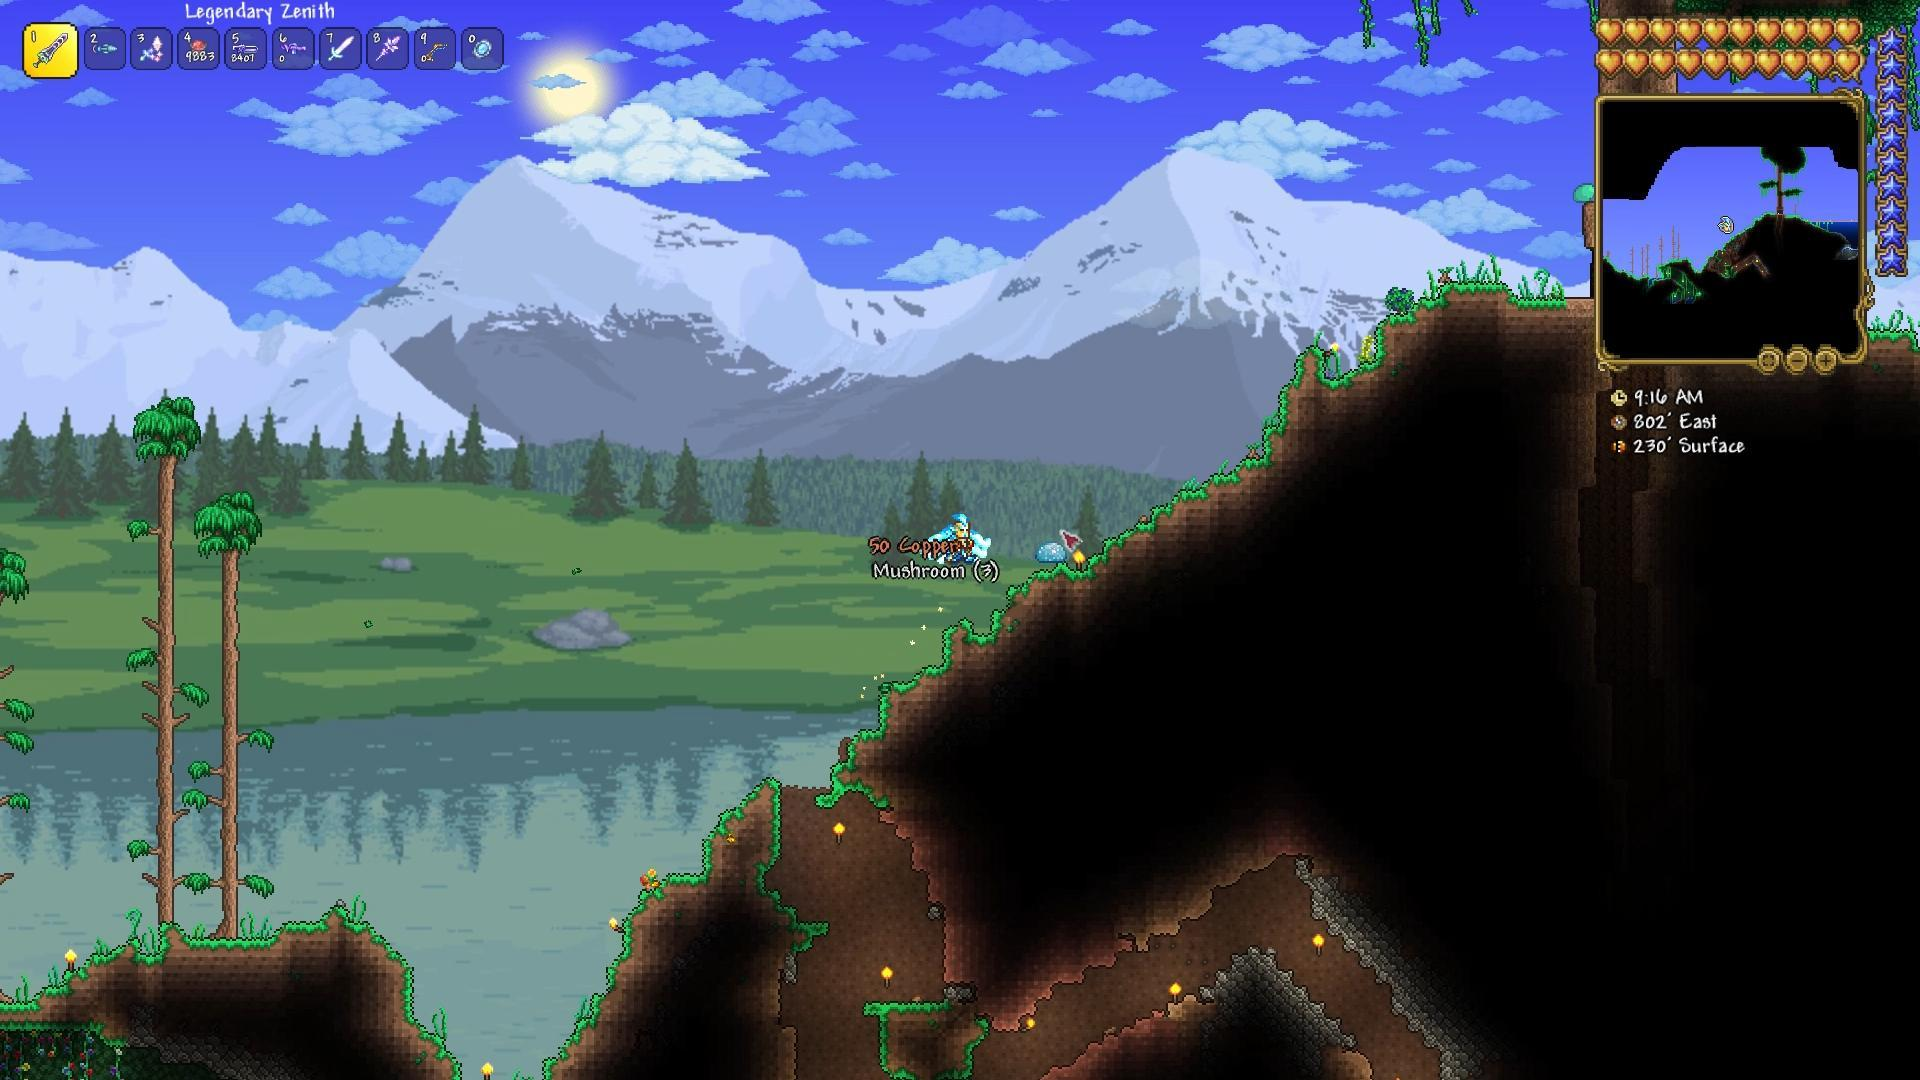slime: (1036, 535, 1069, 566), (1571, 181, 1598, 203)
